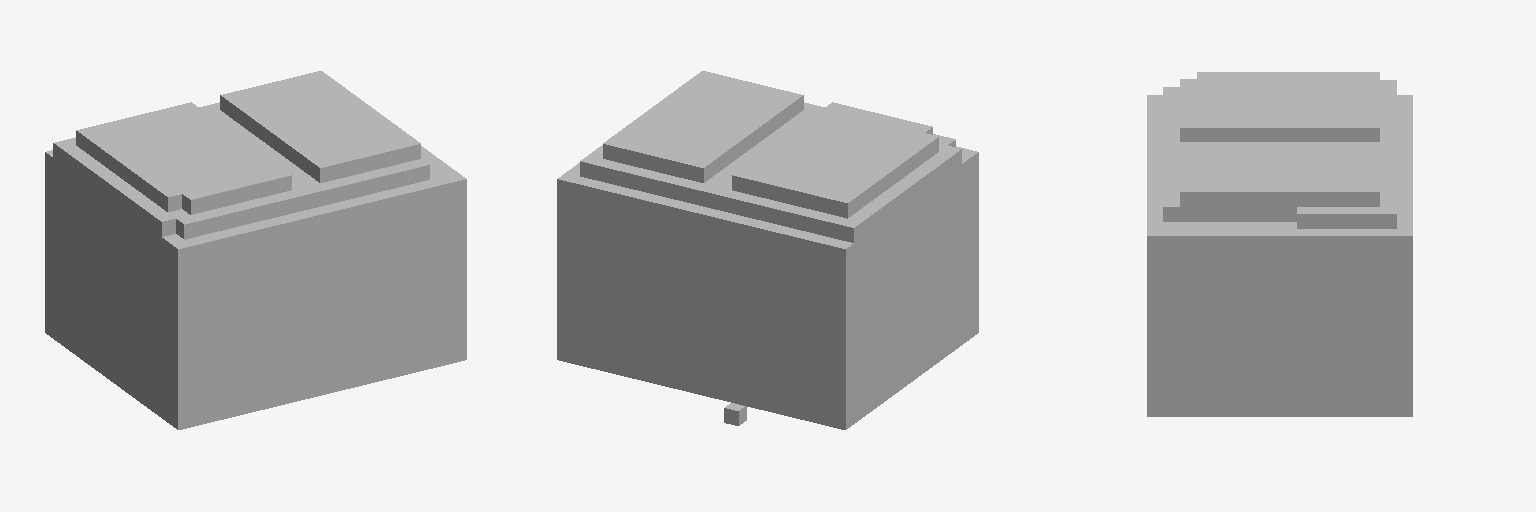
The model's file is GGJ zombie brain2.obj.
3 views of the same model, side by side, from view 1: azimuth 30°, elevation 25°; view 2: azimuth 150°, elevation 25°; view 3: azimuth 270°, elevation 25° (orthographic).
Parts seen in each view (by area): view 1: object 1; view 2: object 1; view 3: object 1.
Part boxes in pixels (left/top/right/bottom): object 1: left=45, top=71, right=466, bottom=429; object 1: left=557, top=71, right=978, bottom=429; object 1: left=1147, top=72, right=1412, bottom=416.
Size of the model in its own units: 2 by 1.6 by 1.6.